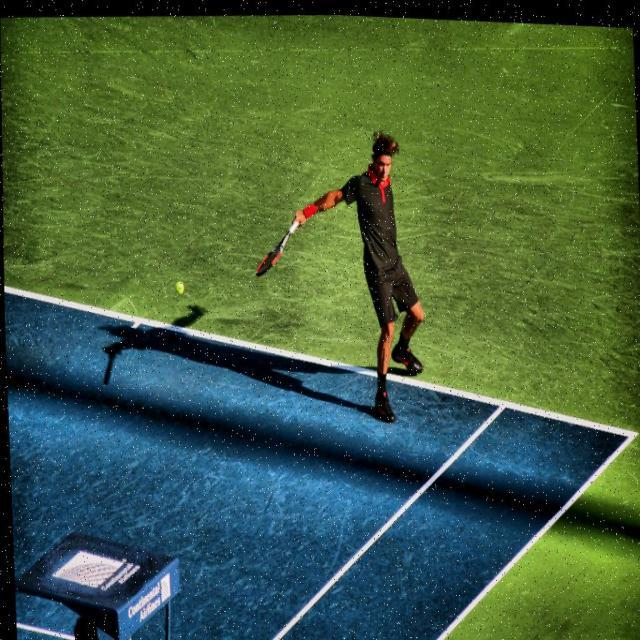tennis-ball: (173, 278, 186, 294)
